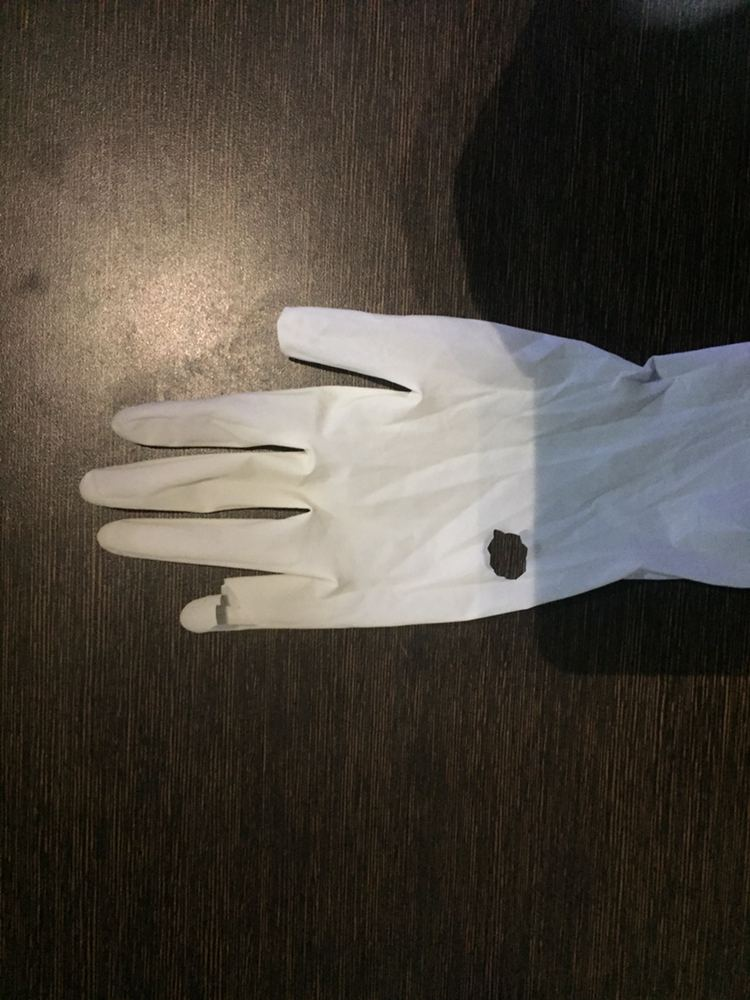defected: (60, 219, 721, 707)
